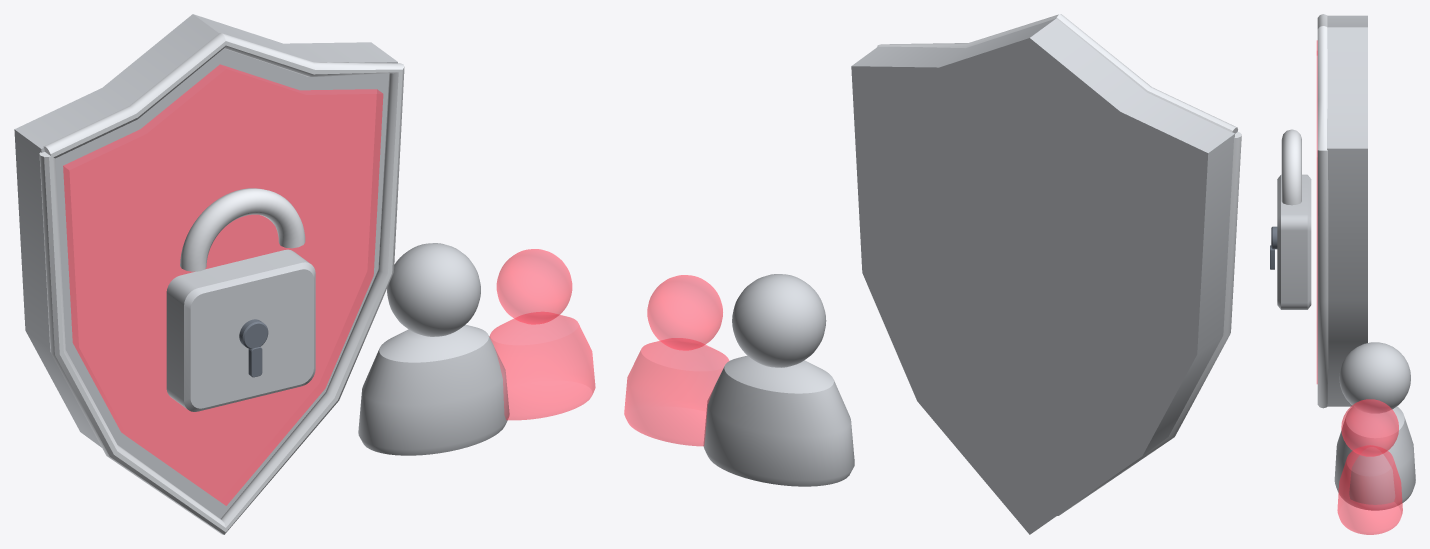
Rendered from 37-access-control.glb.
3 renders of one model, left to right at view 1: azimuth 30°, elevation 25°; view 2: azimuth 150°, elevation 25°; view 3: azimuth 270°, elevation 25°, orthographic. The views are drawn at different scales.
Visible parts, largest first — view 1: BC satin silver metal, BC ruby optical glass, BC polished silver metal, BC dark brushed metal; view 2: BC satin silver metal, BC ruby optical glass, BC polished silver metal; view 3: BC satin silver metal, BC ruby optical glass, BC polished silver metal, BC dark brushed metal.
Boxes of the visible parts, x1,y1,x2,y2 form: BC satin silver metal: [14, 14, 509, 518]; BC ruby optical glass: [63, 64, 595, 505]; BC polished silver metal: [39, 33, 404, 534]; BC dark brushed metal: [239, 319, 268, 377]; BC satin silver metal: [703, 18, 1234, 534]; BC ruby optical glass: [624, 275, 729, 446]; BC polished silver metal: [877, 14, 1241, 515]; BC satin silver metal: [1277, 15, 1415, 510]; BC ruby optical glass: [1316, 40, 1402, 534]; BC polished silver metal: [1281, 14, 1328, 408]; BC dark brushed metal: [1270, 226, 1277, 269].
Size of the model in its own units: 2.04 by 1.68 by 0.5784.
